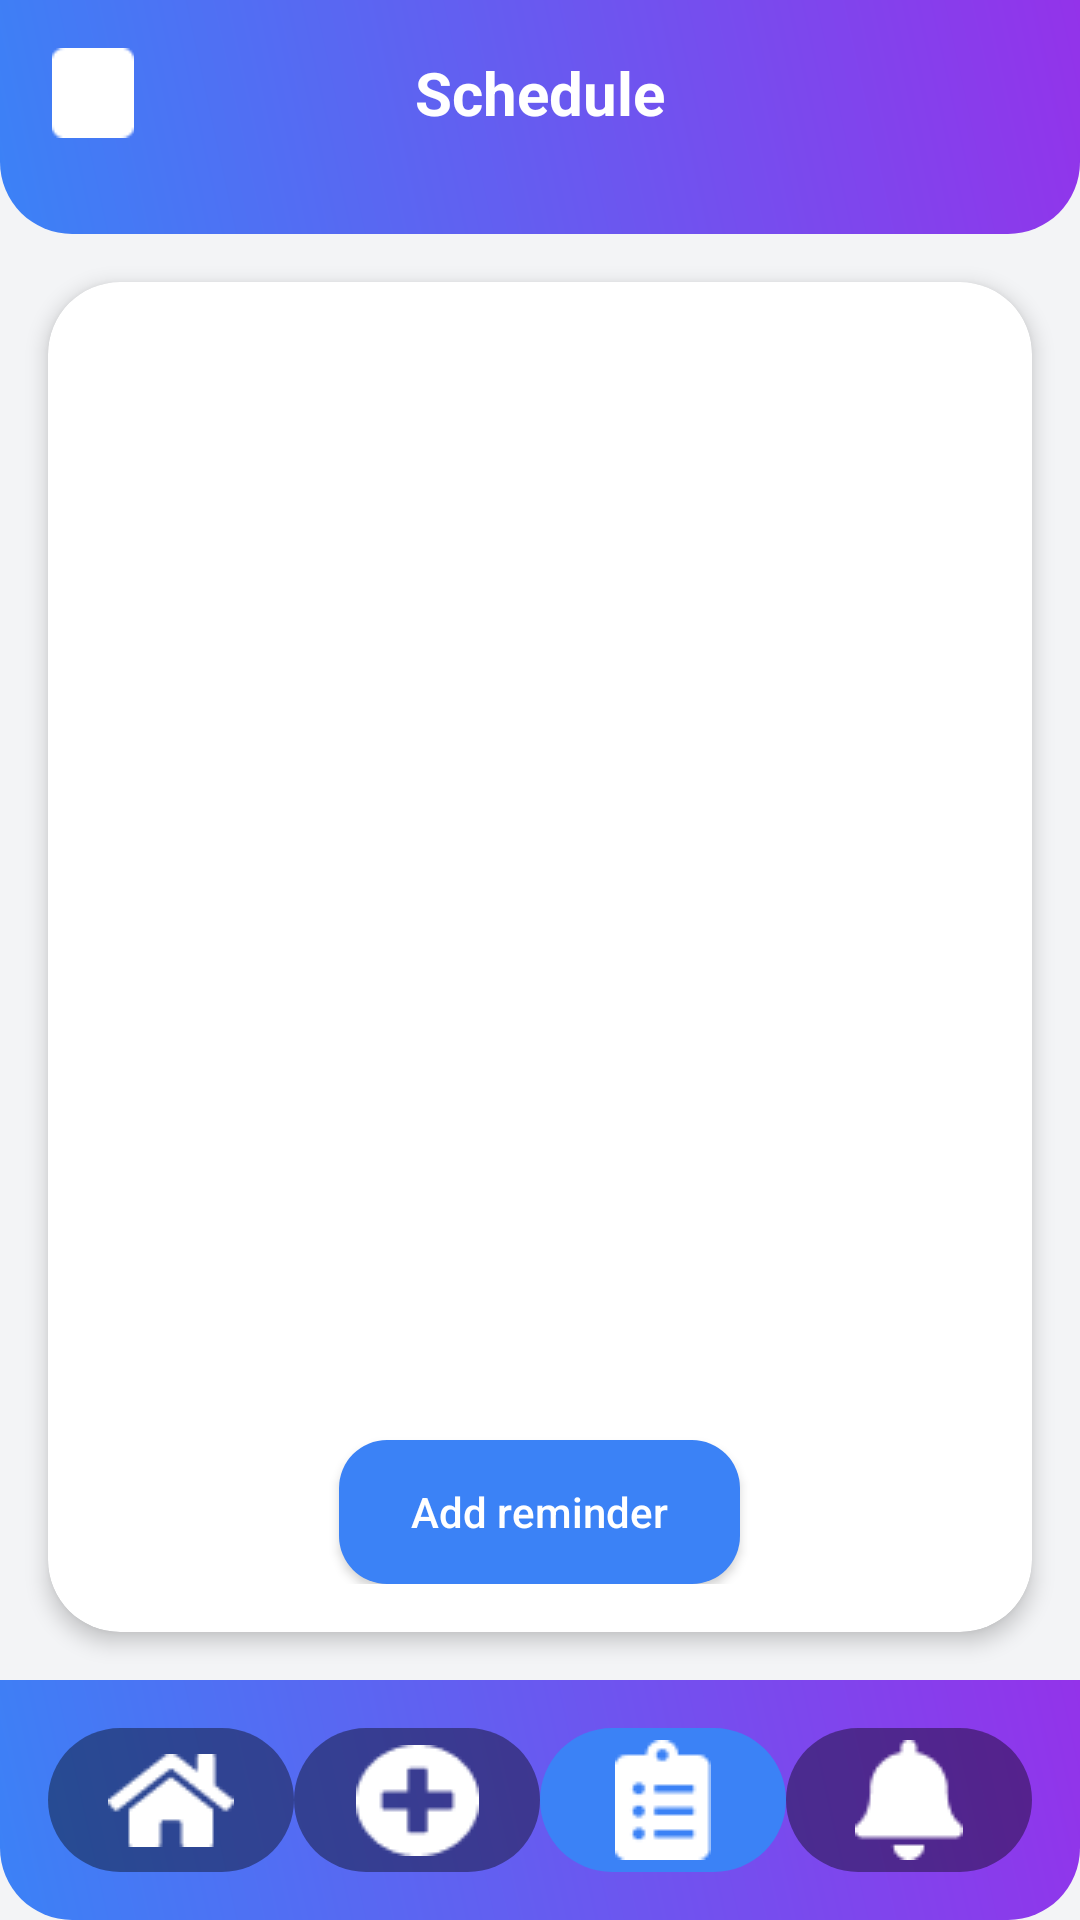

Point at icon controls on the screen. Image size 1080px×1920px, points as (x=x, y=y).
Home: (x=171, y=1800)
Notifications: (x=909, y=1800)
Schedule: (x=663, y=1800)
